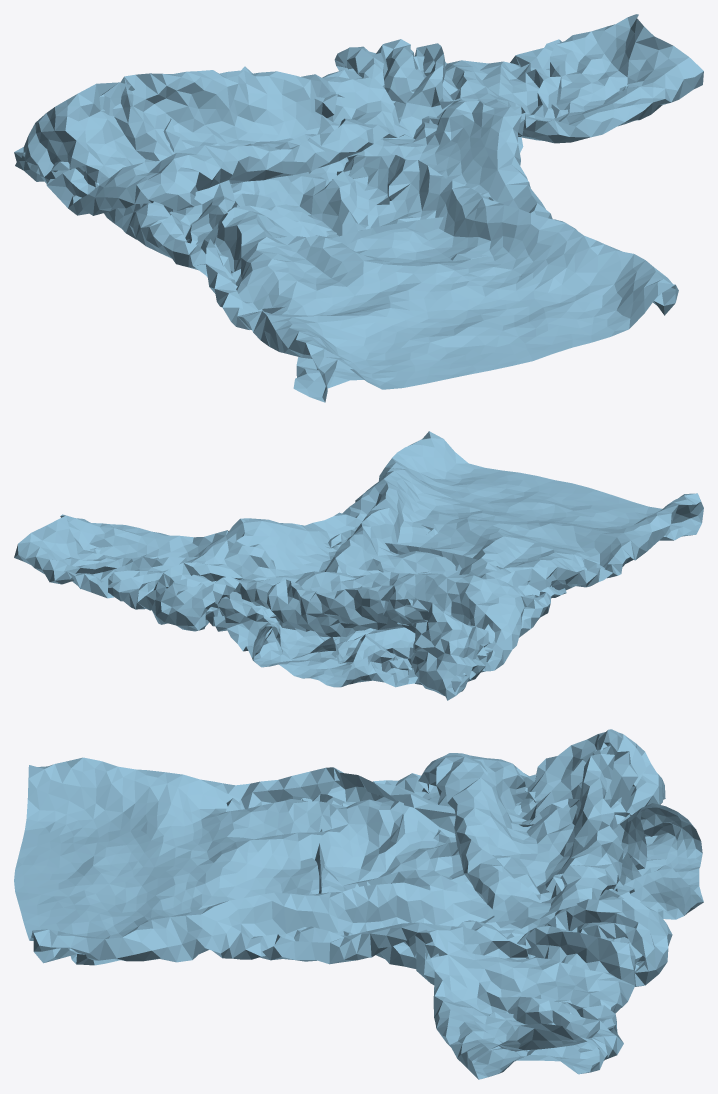
File: frame_01.glb
The picture shows the model from 3 angles, top to bottom: view 1: azimuth 30°, elevation 25°; view 2: azimuth 150°, elevation 25°; view 3: azimuth 270°, elevation 25°; orthographic projection. The views are drawn at different scales.
Visible parts, largest first — view 1: frame_01.obj; view 2: frame_01.obj; view 3: frame_01.obj.
Boxes of the visible parts, x1,y1,x2,y2 form: frame_01.obj: (14, 14, 703, 402); frame_01.obj: (14, 431, 703, 700); frame_01.obj: (14, 729, 703, 1079).
Bounding box in the file's own units: 1.46 × 0.2363 × 1.42.
